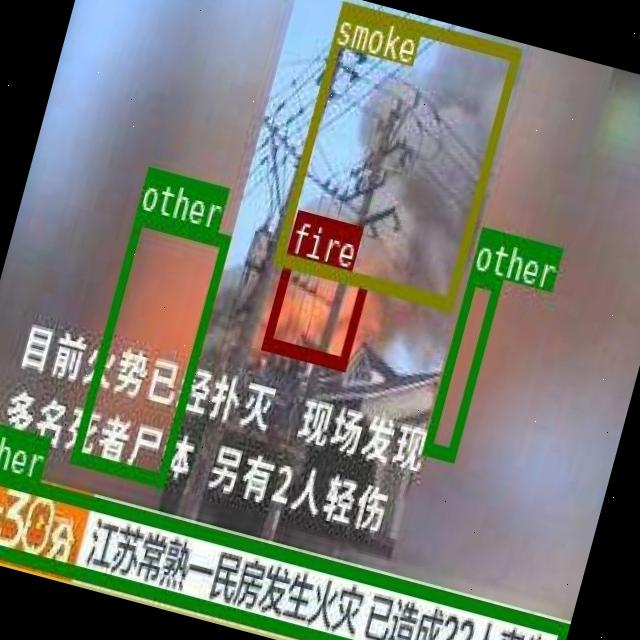fire: (260, 252, 368, 368)
smoke: (272, 0, 521, 307)
